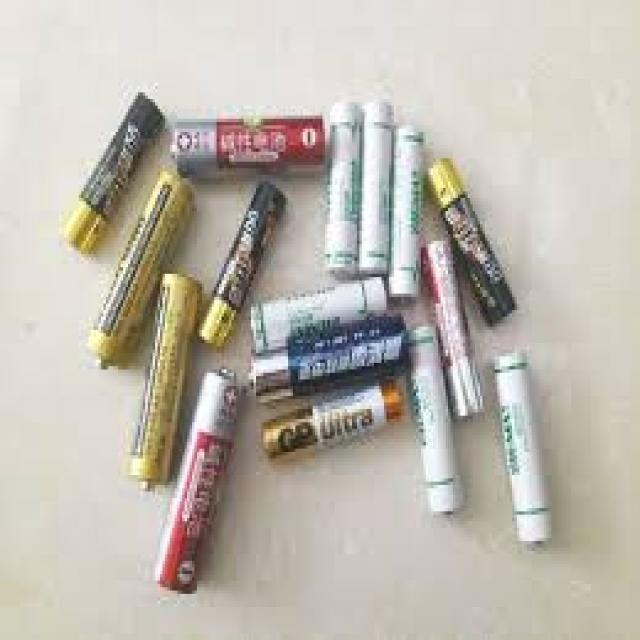battery: (89, 169, 196, 382), (151, 366, 242, 598), (62, 90, 162, 262), (132, 271, 204, 497), (428, 151, 518, 328), (238, 314, 410, 406), (199, 182, 289, 348), (400, 317, 466, 515), (492, 350, 556, 550), (252, 383, 408, 465), (424, 236, 484, 418), (168, 117, 330, 182), (242, 277, 386, 349), (326, 100, 362, 286), (391, 124, 425, 308), (363, 95, 395, 276)
